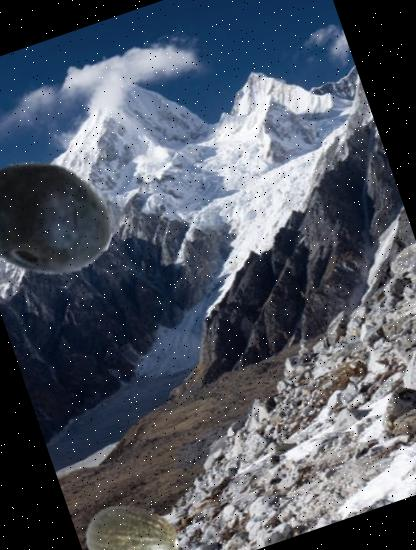Blueberry: (0, 132, 133, 304)
Melon: (74, 480, 193, 550)
